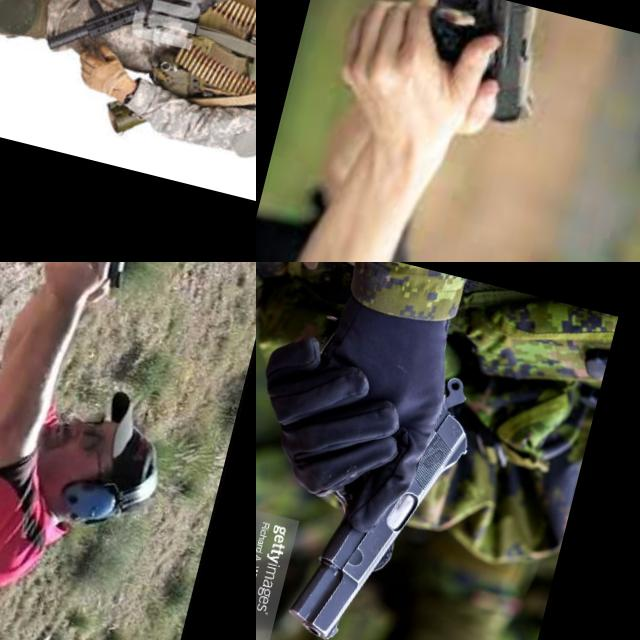handgun: (275, 345, 489, 640), (391, 0, 562, 134), (70, 262, 143, 315), (215, 0, 256, 48)
